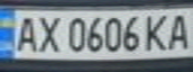0: (63, 14, 87, 53), (103, 14, 124, 53)
6: (121, 12, 145, 53), (84, 14, 106, 53)
A: (9, 12, 42, 53), (163, 10, 193, 51)
K: (139, 11, 172, 52)
X: (33, 12, 63, 54)
